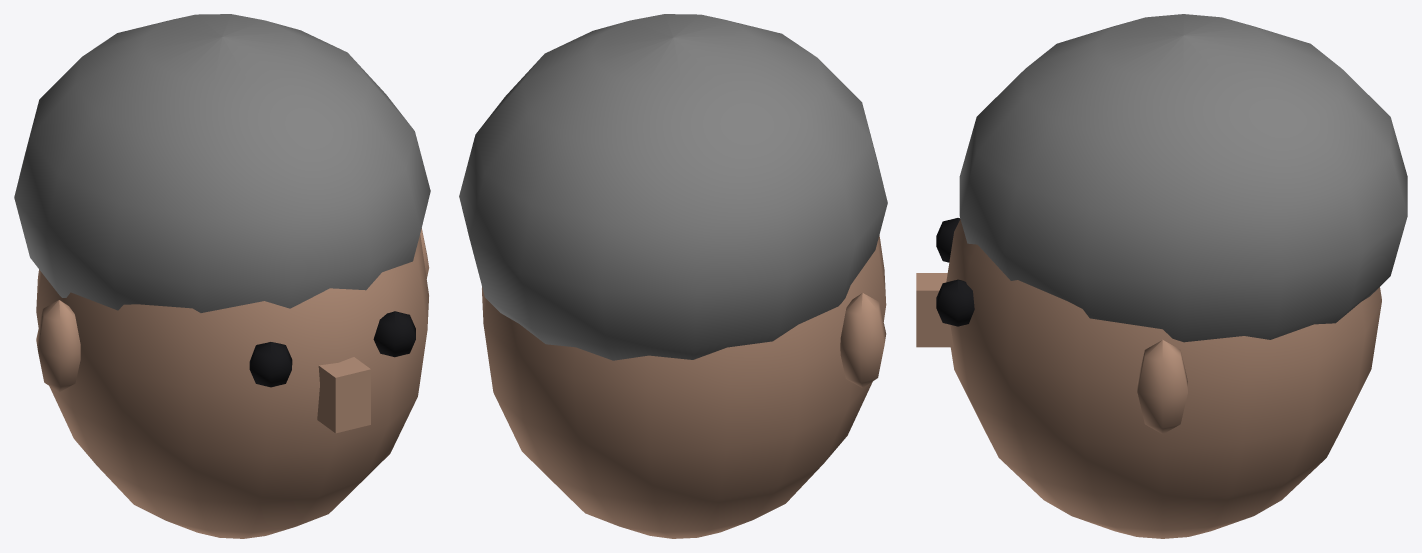
The model's file is head.obj.
3 views of the same model, side by side, from view 1: azimuth 30°, elevation 25°; view 2: azimuth 150°, elevation 25°; view 3: azimuth 270°, elevation 25° (orthographic). The views are drawn at different scales.
Visible parts, largest first — view 1: head; view 2: head; view 3: head.
Part boxes in pixels (box(x1,y1,x2,y2)): head: box(14, 14, 430, 538); head: box(459, 14, 887, 538); head: box(916, 14, 1407, 538).
Size of the model in its own units: 0.2263 by 0.2654 by 0.242.
